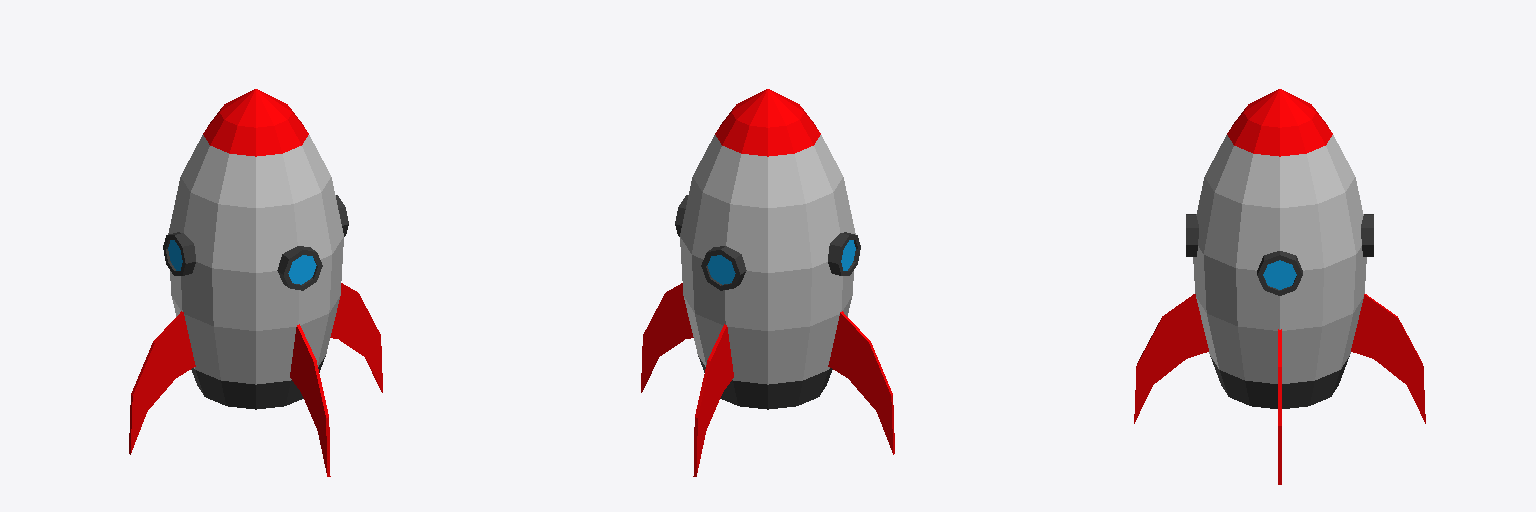
The model's file is Low_Poly_Spaceship_005.obj.
The picture shows the model from 3 angles: view 1: azimuth 30°, elevation 25°; view 2: azimuth 150°, elevation 25°; view 3: azimuth 270°, elevation 25°; orthographic projection.
Parts seen in each view (by area): view 1: Low_Poly_Spaceship_005.001_Cube.004; view 2: Low_Poly_Spaceship_005.001_Cube.004; view 3: Low_Poly_Spaceship_005.001_Cube.004.
Part boxes in pixels (left/top/right/bottom): Low_Poly_Spaceship_005.001_Cube.004: left=129, top=89, right=382, bottom=476; Low_Poly_Spaceship_005.001_Cube.004: left=641, top=89, right=894, bottom=476; Low_Poly_Spaceship_005.001_Cube.004: left=1134, top=89, right=1425, bottom=484.
Size of the model in its own units: 6.4 by 8.12 by 6.4.